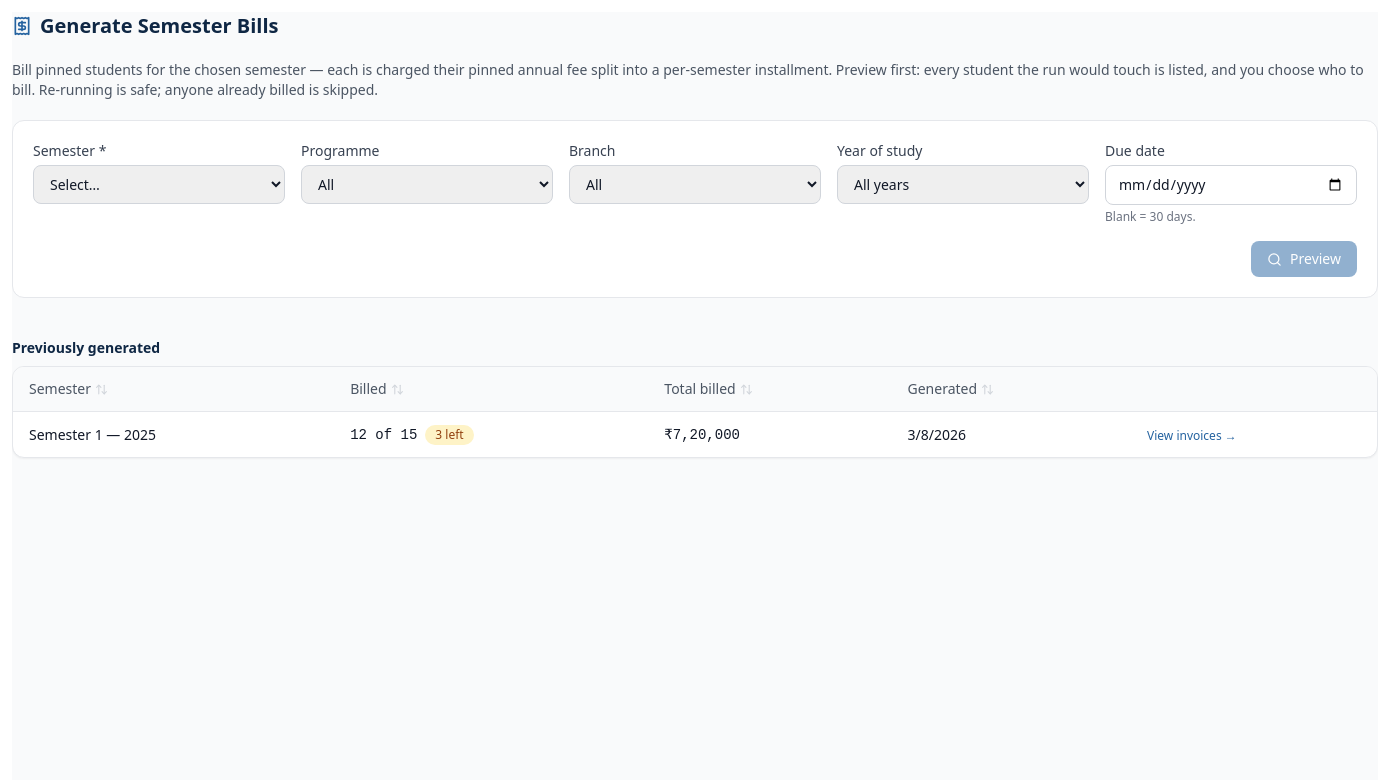
<GenerateBillsPage /> — preview table › drops the total as rows are unticked — never trusting the server figure
Select "Semester 1 — 2025 (active)" in the dropdown labelled "Semester *". click: (159, 184)
box: [33,165,285,204]
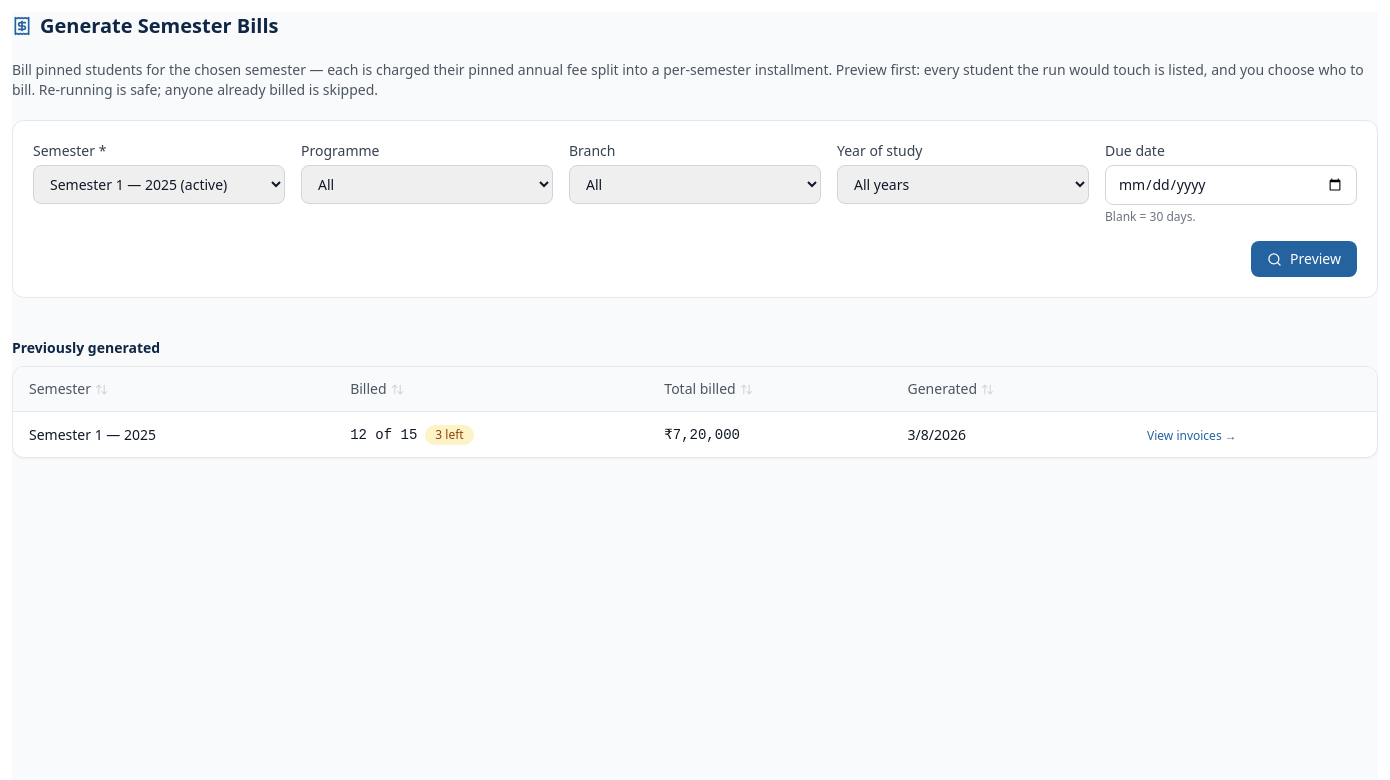
Click the button "Preview". click: (1304, 259)
box: [1251,241,1357,277]
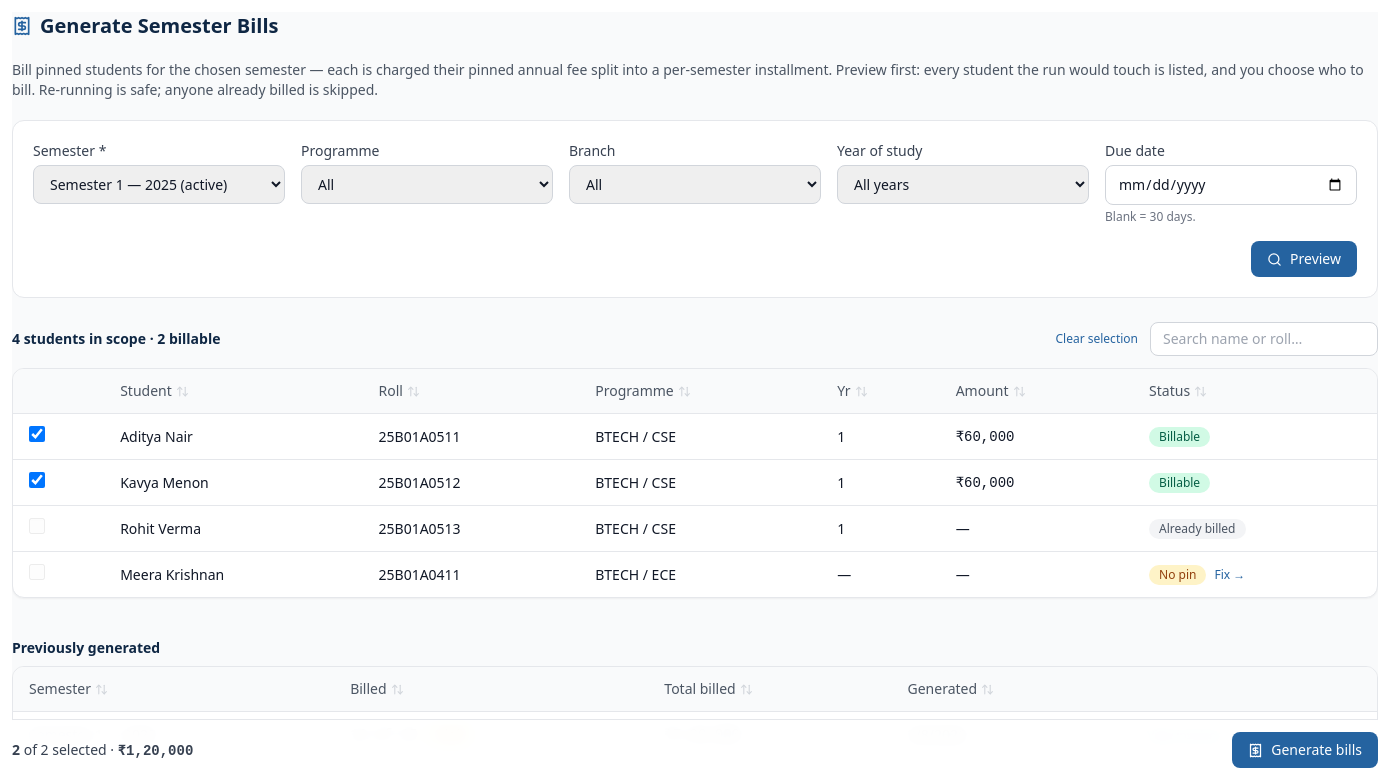
Result: the text "Aditya Nair" is shown at [104,414,362,460]
Click the checkbox named "Select Aditya Nair". click: (37, 434)
box: [29,426,45,442]
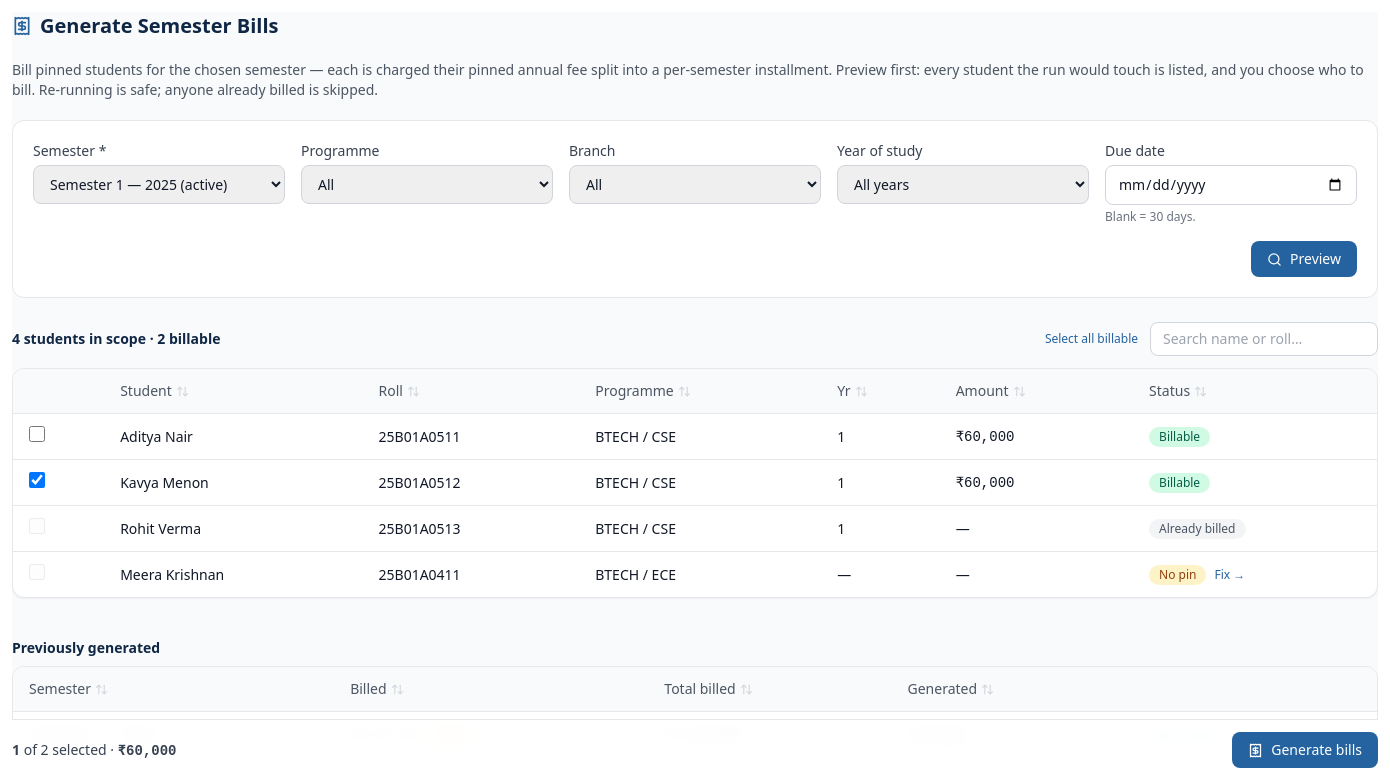
Result: the text with test id "selected-total" reads "₹60,000" at [118,742,176,758]
Result: the text with test id "selected-count" reads "1" at [12,740,20,758]
